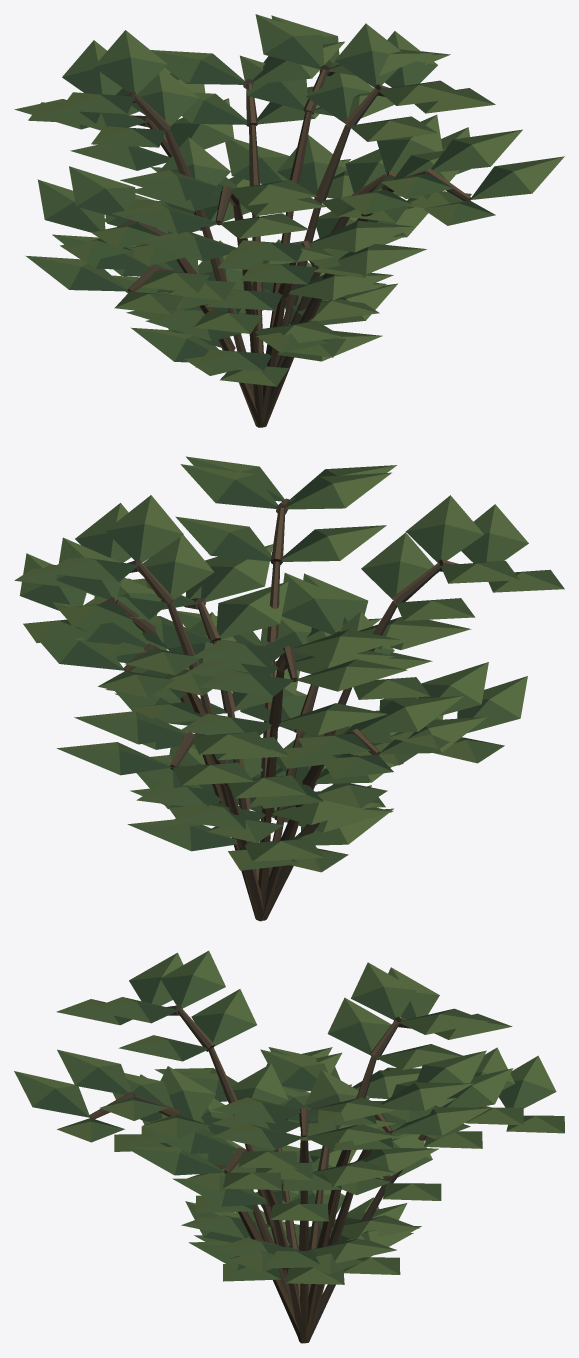
The picture shows the model from 3 angles, top to bottom: view 1: azimuth 30°, elevation 25°; view 2: azimuth 150°, elevation 25°; view 3: azimuth 270°, elevation 25°; orthographic projection. The views are drawn at different scales.
Parts seen in each view (by area): view 1: bramble-thicket · evaluated preview mesh; view 2: bramble-thicket · evaluated preview mesh; view 3: bramble-thicket · evaluated preview mesh.
Part boxes in pixels (bbox=[...]): bramble-thicket · evaluated preview mesh: bbox=[14, 14, 564, 427]; bramble-thicket · evaluated preview mesh: bbox=[14, 456, 564, 921]; bramble-thicket · evaluated preview mesh: bbox=[14, 950, 564, 1343].
Bounding box in the file's own units: 2.89 × 2.14 × 3.51.
